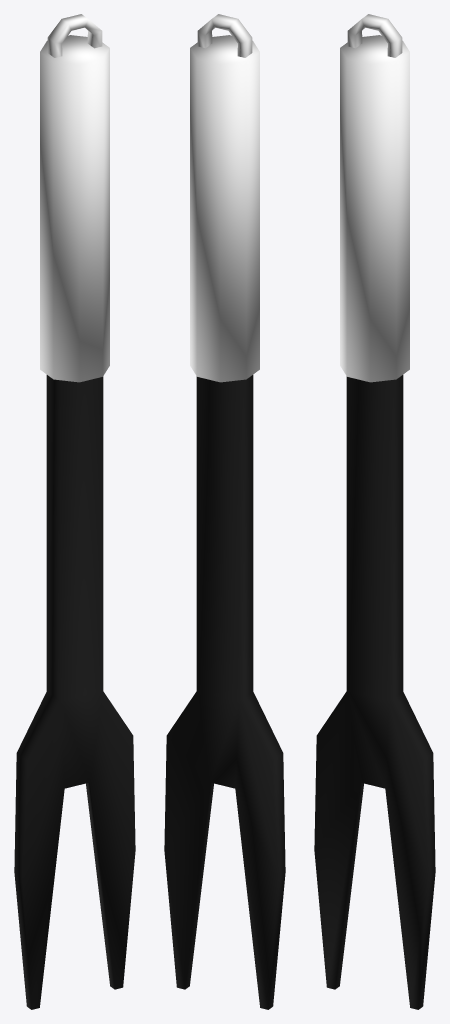
The model's file is Tool#2.fbx.
3 renders of one model, left to right at view 1: azimuth 30°, elevation 25°; view 2: azimuth 150°, elevation 25°; view 3: azimuth 330°, elevation 25°, orthographic.
Visible parts, largest first — view 1: Tool#2; view 2: Tool#2; view 3: Tool#2.
Part boxes in pixels (left/top/right/bottom): Tool#2: left=14, top=14, right=135, bottom=1009; Tool#2: left=164, top=14, right=285, bottom=1009; Tool#2: left=314, top=14, right=435, bottom=1009.
Bounding box in the file's own units: 5.17 × 42.69 × 2.57.
